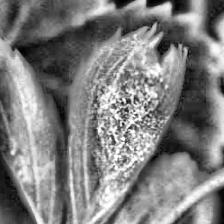Powdery Mildew Leaf: (59, 21, 187, 224), (0, 31, 65, 224), (68, 153, 223, 224)
